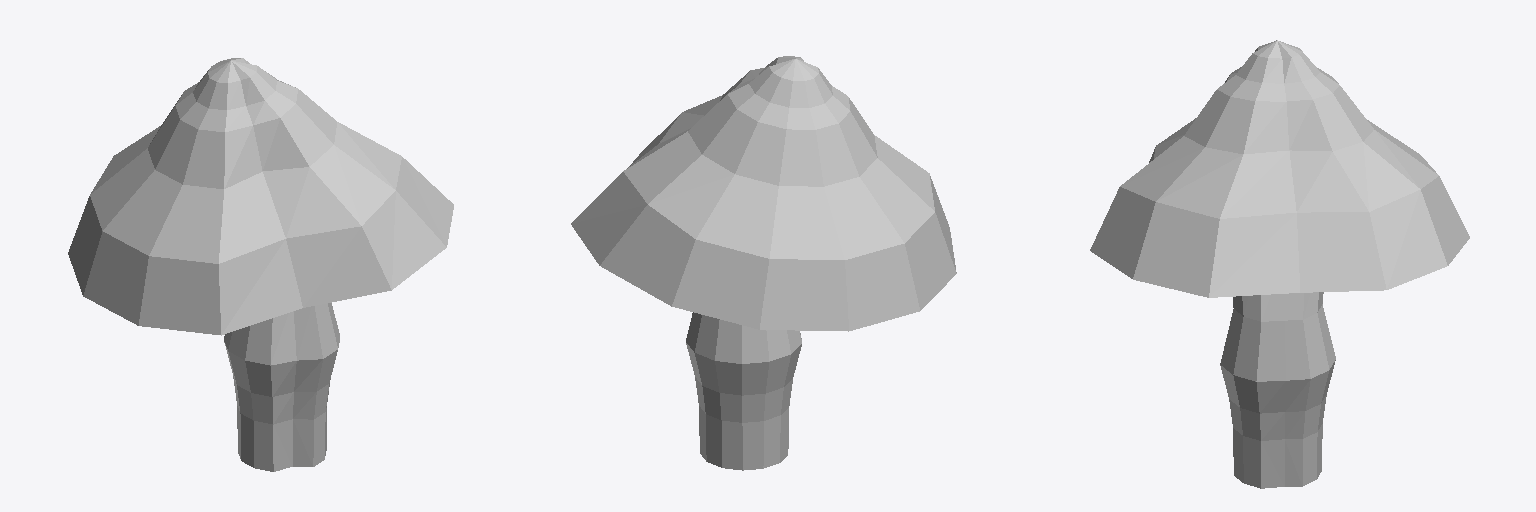
Rendered from Mushroom_Boi.obj.
3 views of the same model, side by side, from view 1: azimuth 30°, elevation 25°; view 2: azimuth 150°, elevation 25°; view 3: azimuth 270°, elevation 25° (orthographic).
Parts seen in each view (by area): view 1: Cylinder.000; view 2: Cylinder.000; view 3: Cylinder.000.
Part boxes in pixels (x1,y1,x2,y2): Cylinder.000: (68,58,453,471); Cylinder.000: (571,56,956,470); Cylinder.000: (1090,40,1469,488).
Size of the model in its own units: 8.42 by 10.03 by 8.52.